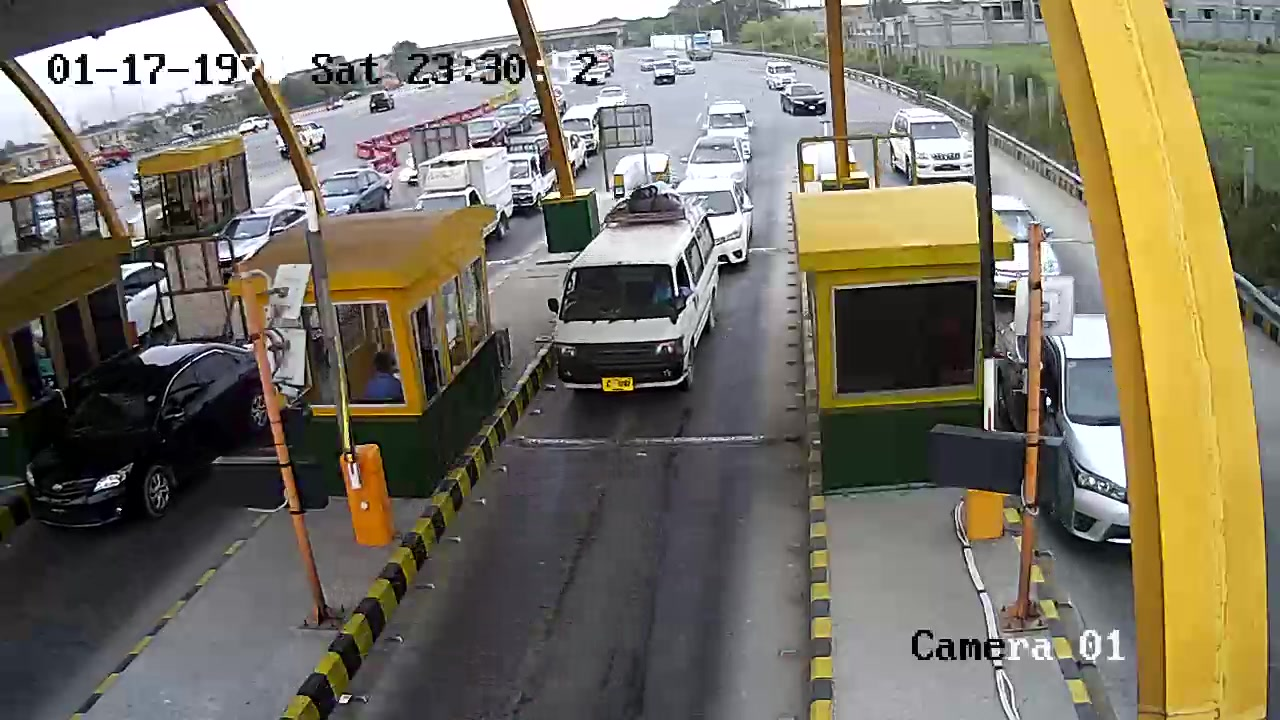F3: (554, 173, 718, 412)
